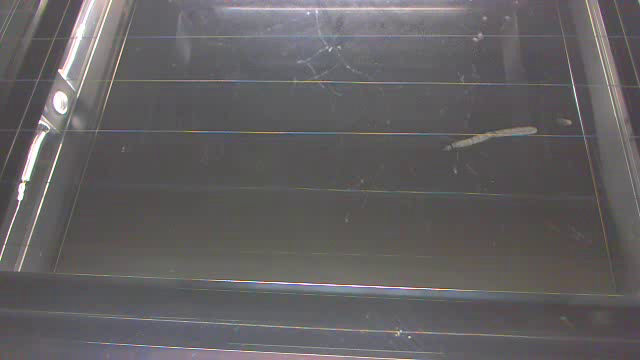alpha: (437, 95, 547, 205), (558, 115, 575, 132)
